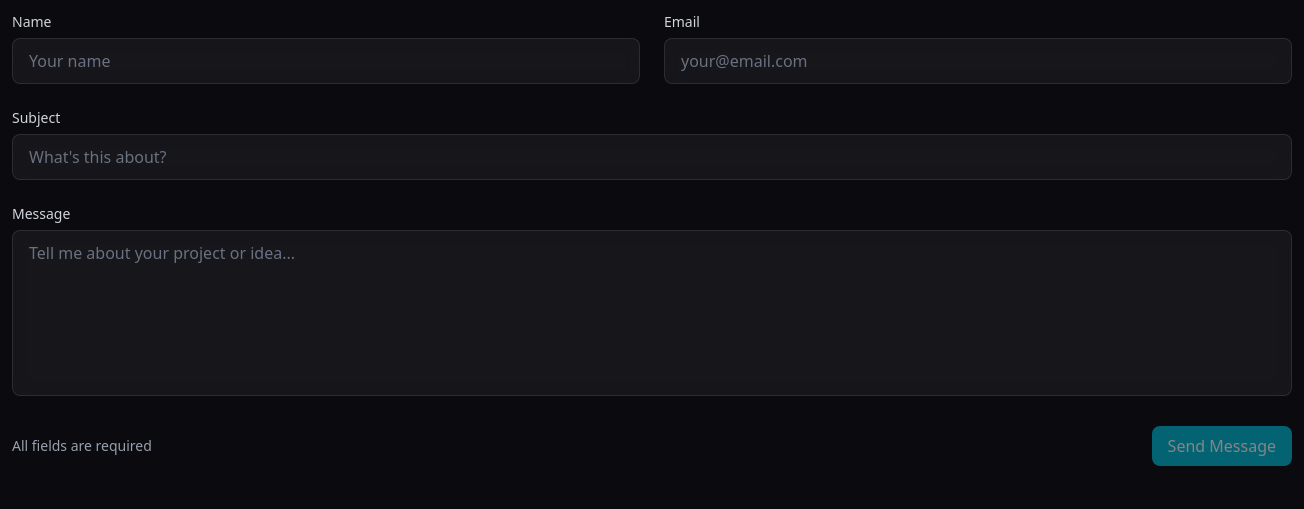
Scenario: ContactForm › shows validation errors for empty fields on blur
Click the field labelled "Name": [326, 61] box [12,38,640,84]
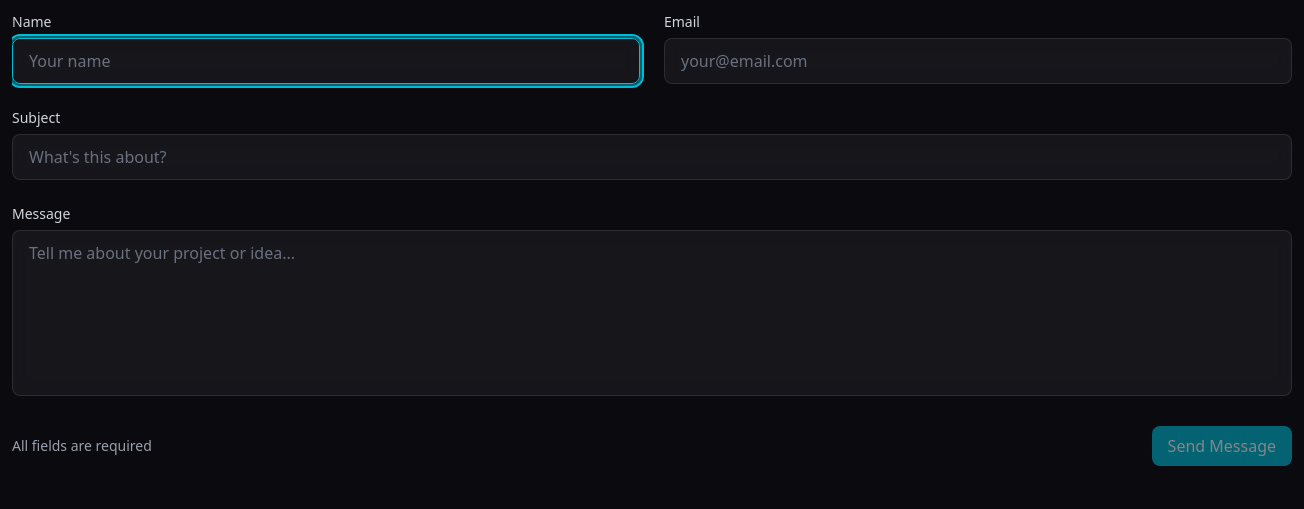
Press Tab
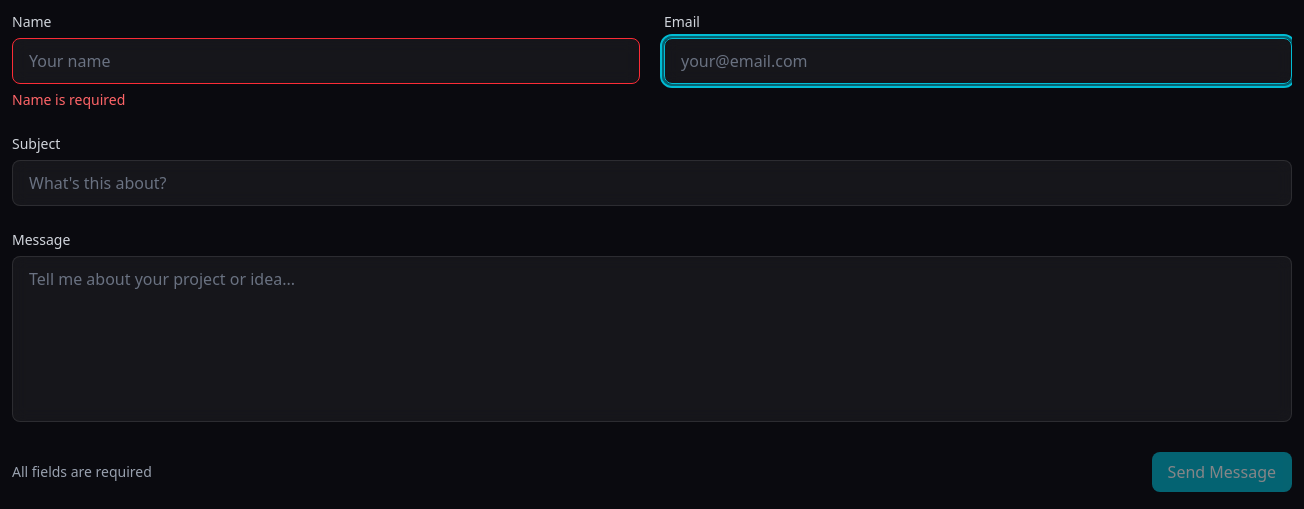
expect the text "Name is required" is shown: met, box [12,90,125,109]
